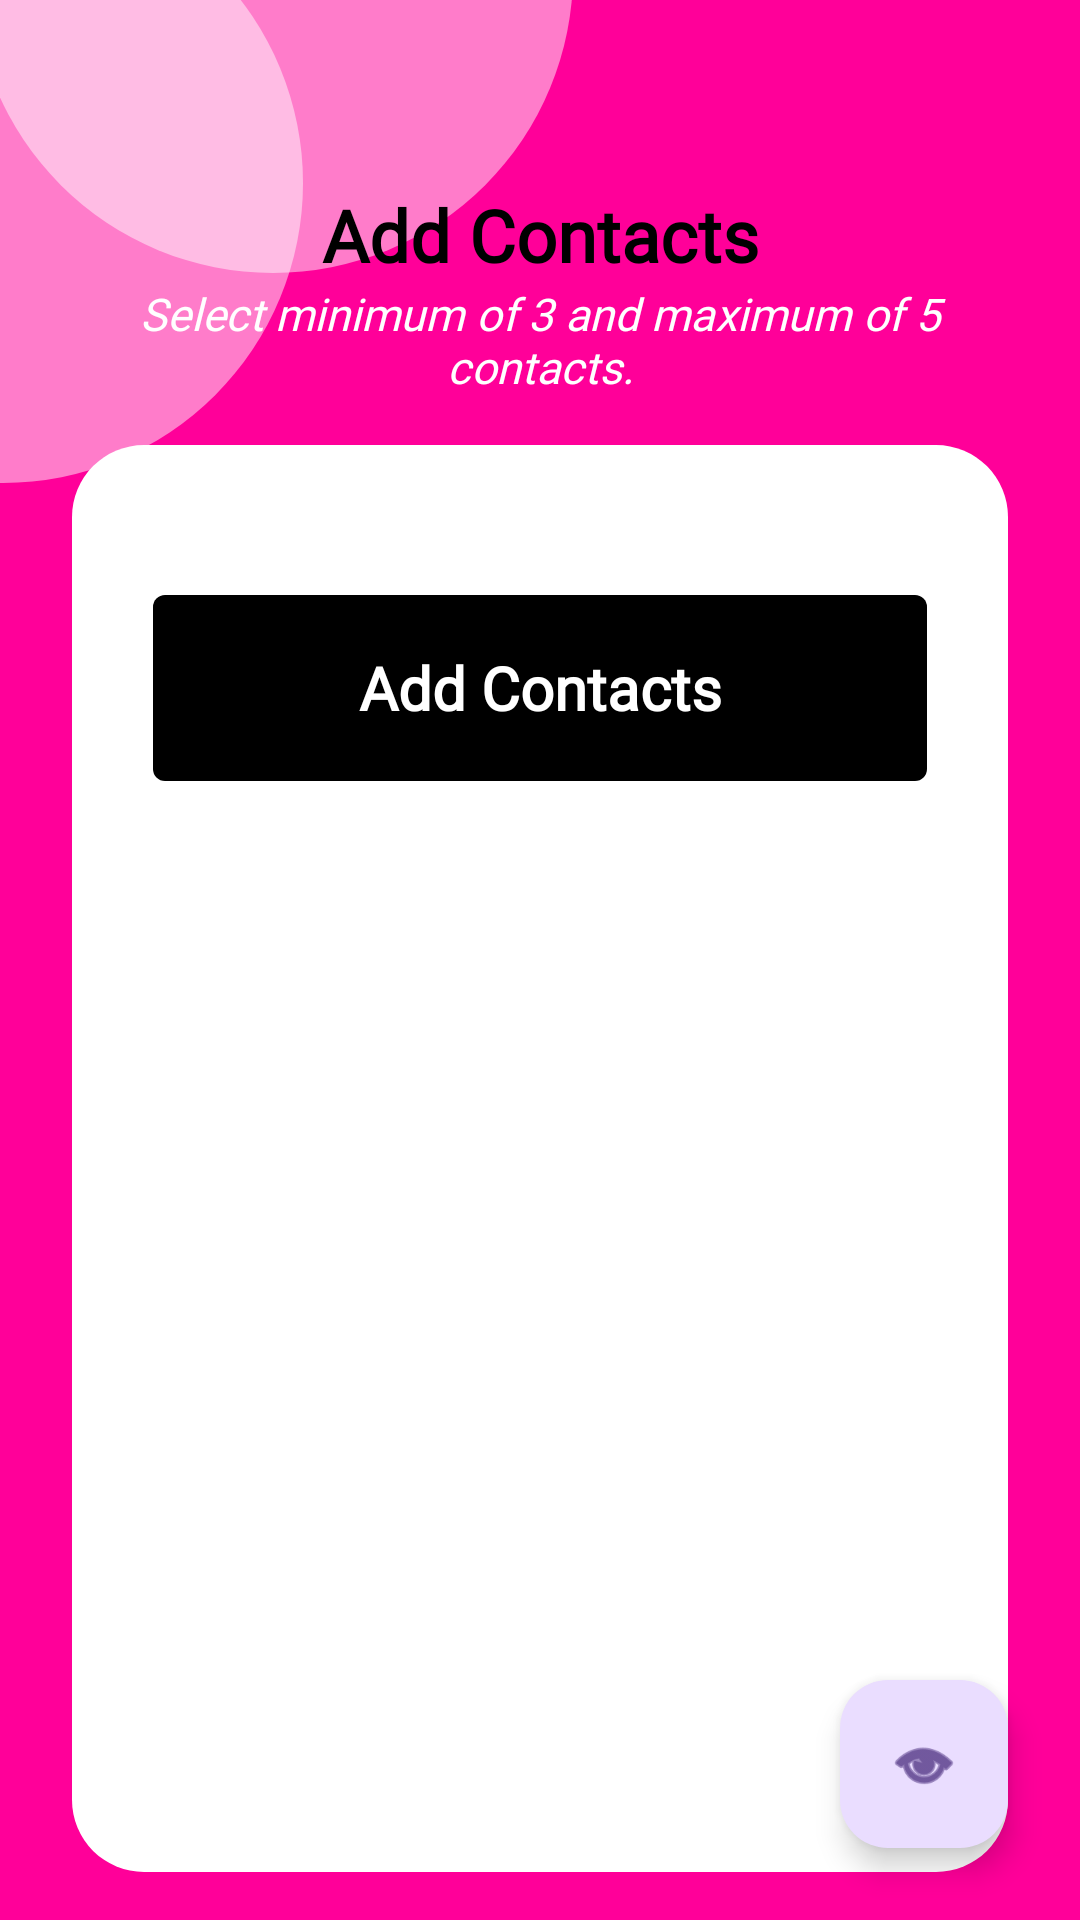

Icons on this 1080*1920 Android screen, each with the point to tap as (x,y):
view: (924,1764)
